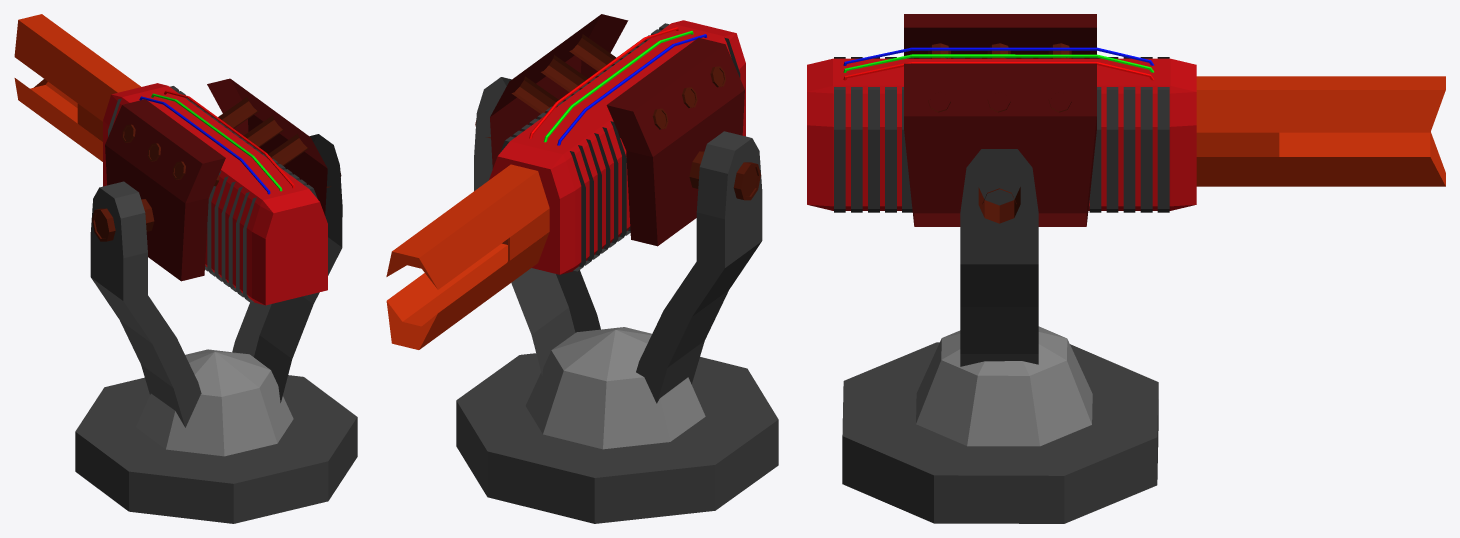
Rendered from laser2.obj.
The picture shows the model from 3 angles, left to right: view 1: azimuth 30°, elevation 25°; view 2: azimuth 150°, elevation 25°; view 3: azimuth 270°, elevation 25°; orthographic projection. The views are drawn at different scales.
Visible parts, largest first — view 1: BézierCurve.001; view 2: BézierCurve.001; view 3: BézierCurve.001.
Boxes of the visible parts, left/top/right/bottom form: BézierCurve.001: left=14, top=14, right=357, bottom=523; BézierCurve.001: left=386, top=14, right=778, bottom=523; BézierCurve.001: left=807, top=14, right=1445, bottom=523.
Size of the model in its own units: 1.89 by 2.93 by 3.75.
